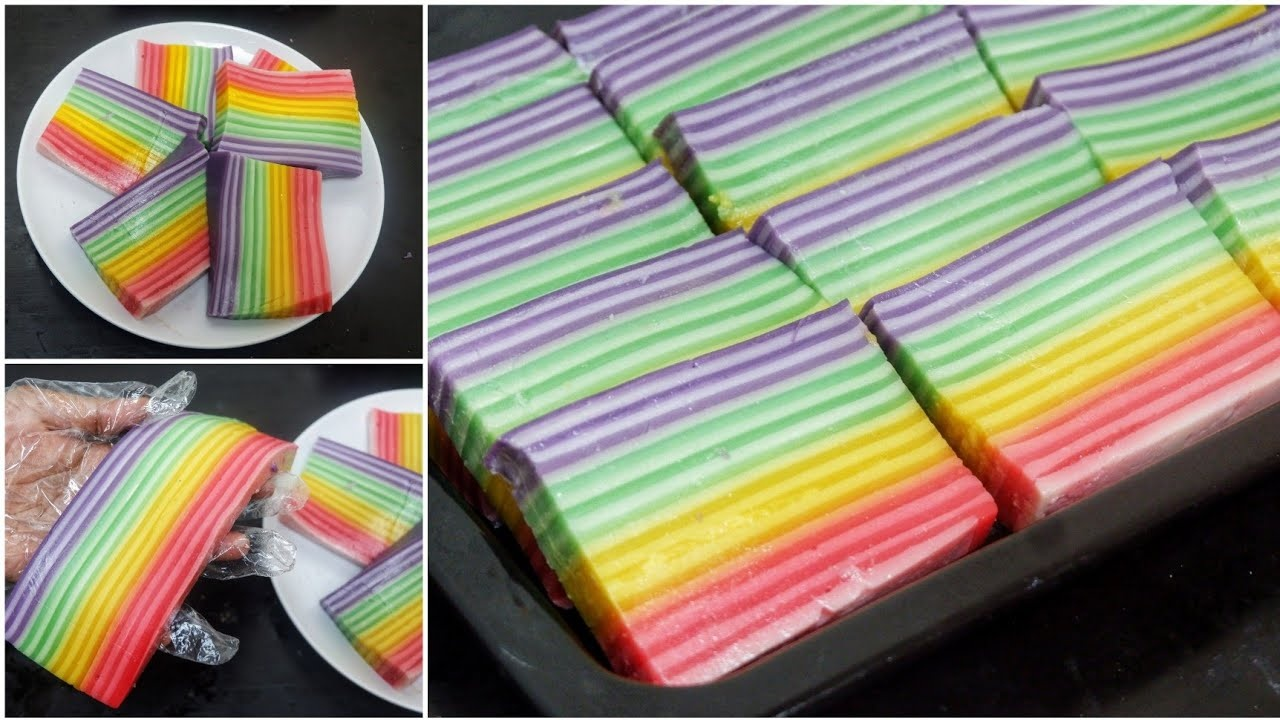kue_lapis_pelangi: (489, 300, 992, 686), (864, 156, 1279, 532), (5, 403, 304, 702), (211, 153, 338, 322), (32, 67, 193, 195), (212, 64, 367, 175)
